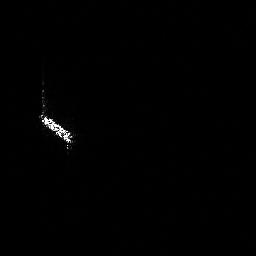ship: (35, 110, 78, 152)
